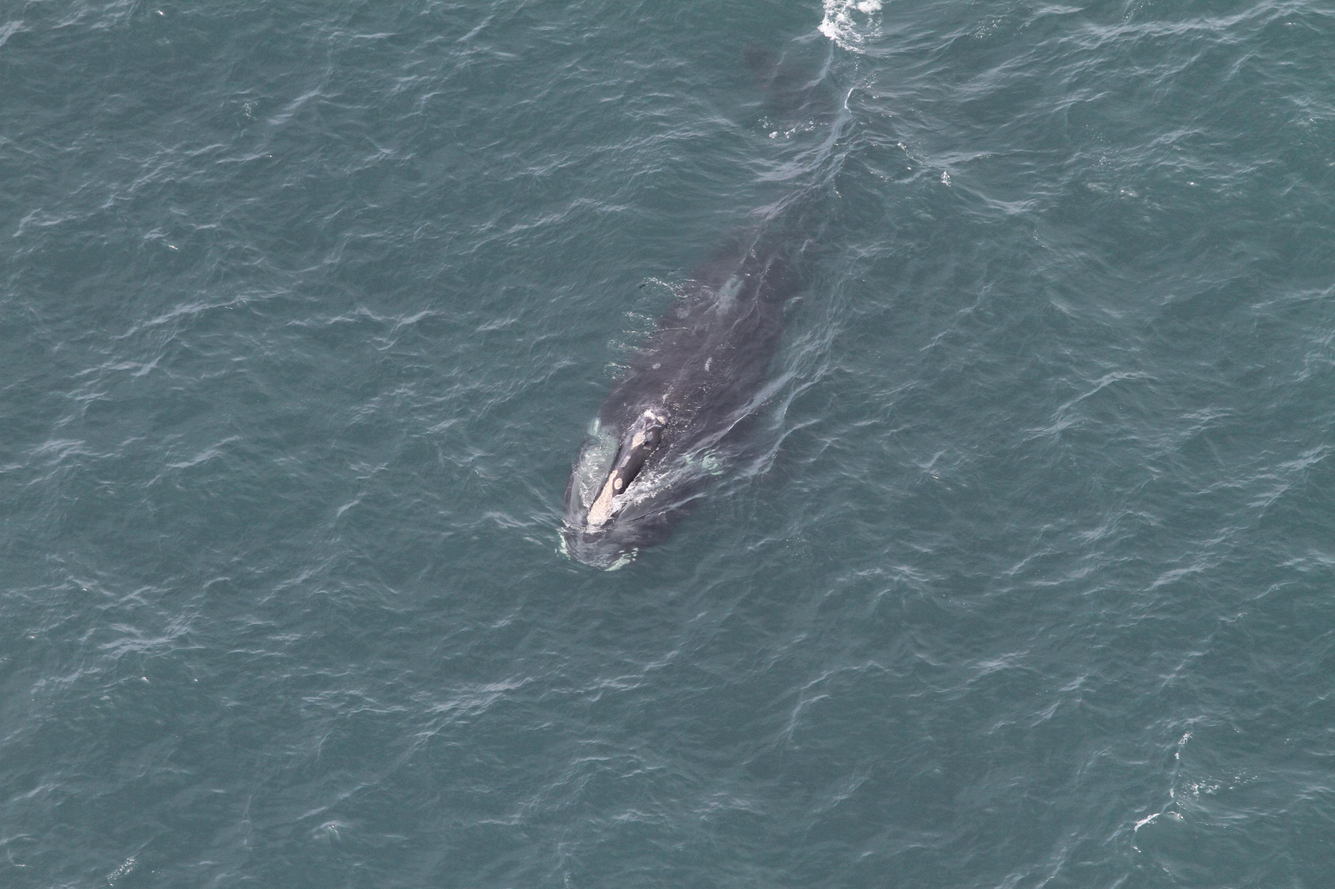whale: (553, 41, 976, 584)
